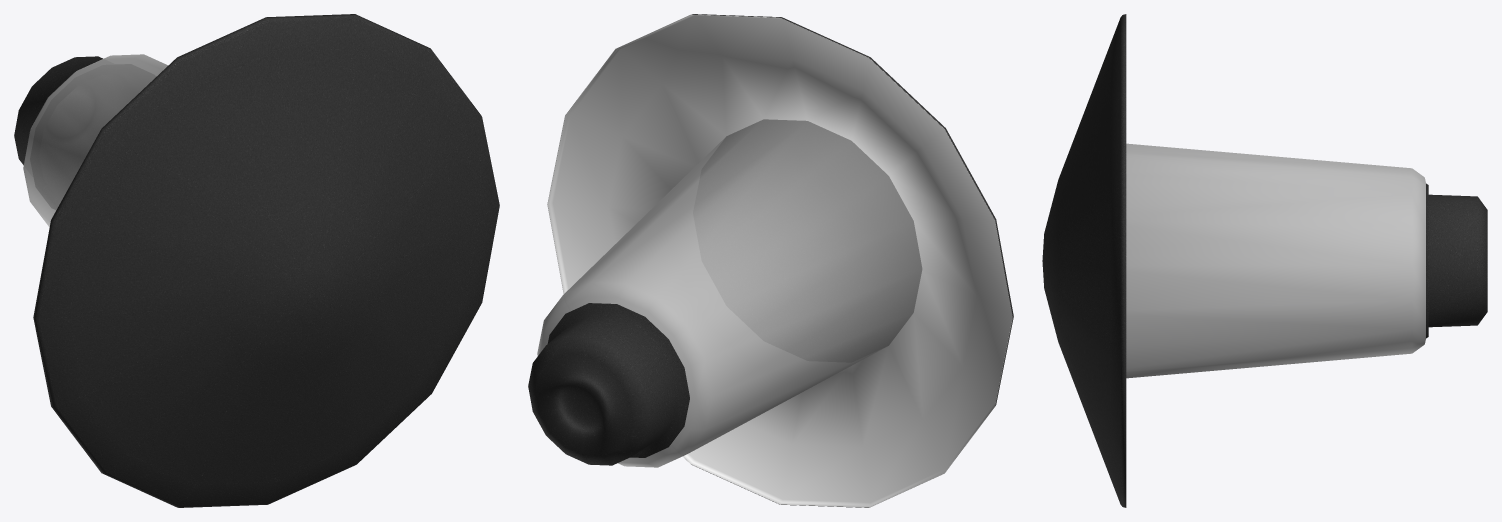
Rendered from Pilz.obj.
3 renders of one model, left to right at view 1: azimuth 30°, elevation 25°; view 2: azimuth 150°, elevation 25°; view 3: azimuth 270°, elevation 25°, orthographic. The views are drawn at different scales.
Visible parts, largest first — view 1: Siteco_Pilz_Pilz_16_Segmente; view 2: Siteco_Pilz_Pilz_16_Segmente; view 3: Siteco_Pilz_Pilz_16_Segmente.
Part boxes in pixels (x1,y1,x2,y2): Siteco_Pilz_Pilz_16_Segmente: (14, 14, 499, 507); Siteco_Pilz_Pilz_16_Segmente: (528, 14, 1013, 507); Siteco_Pilz_Pilz_16_Segmente: (1042, 14, 1487, 507).
Bounding box in the file's own units: 0.65 × 0.65 × 0.585.
3 materials, 2 textured.
